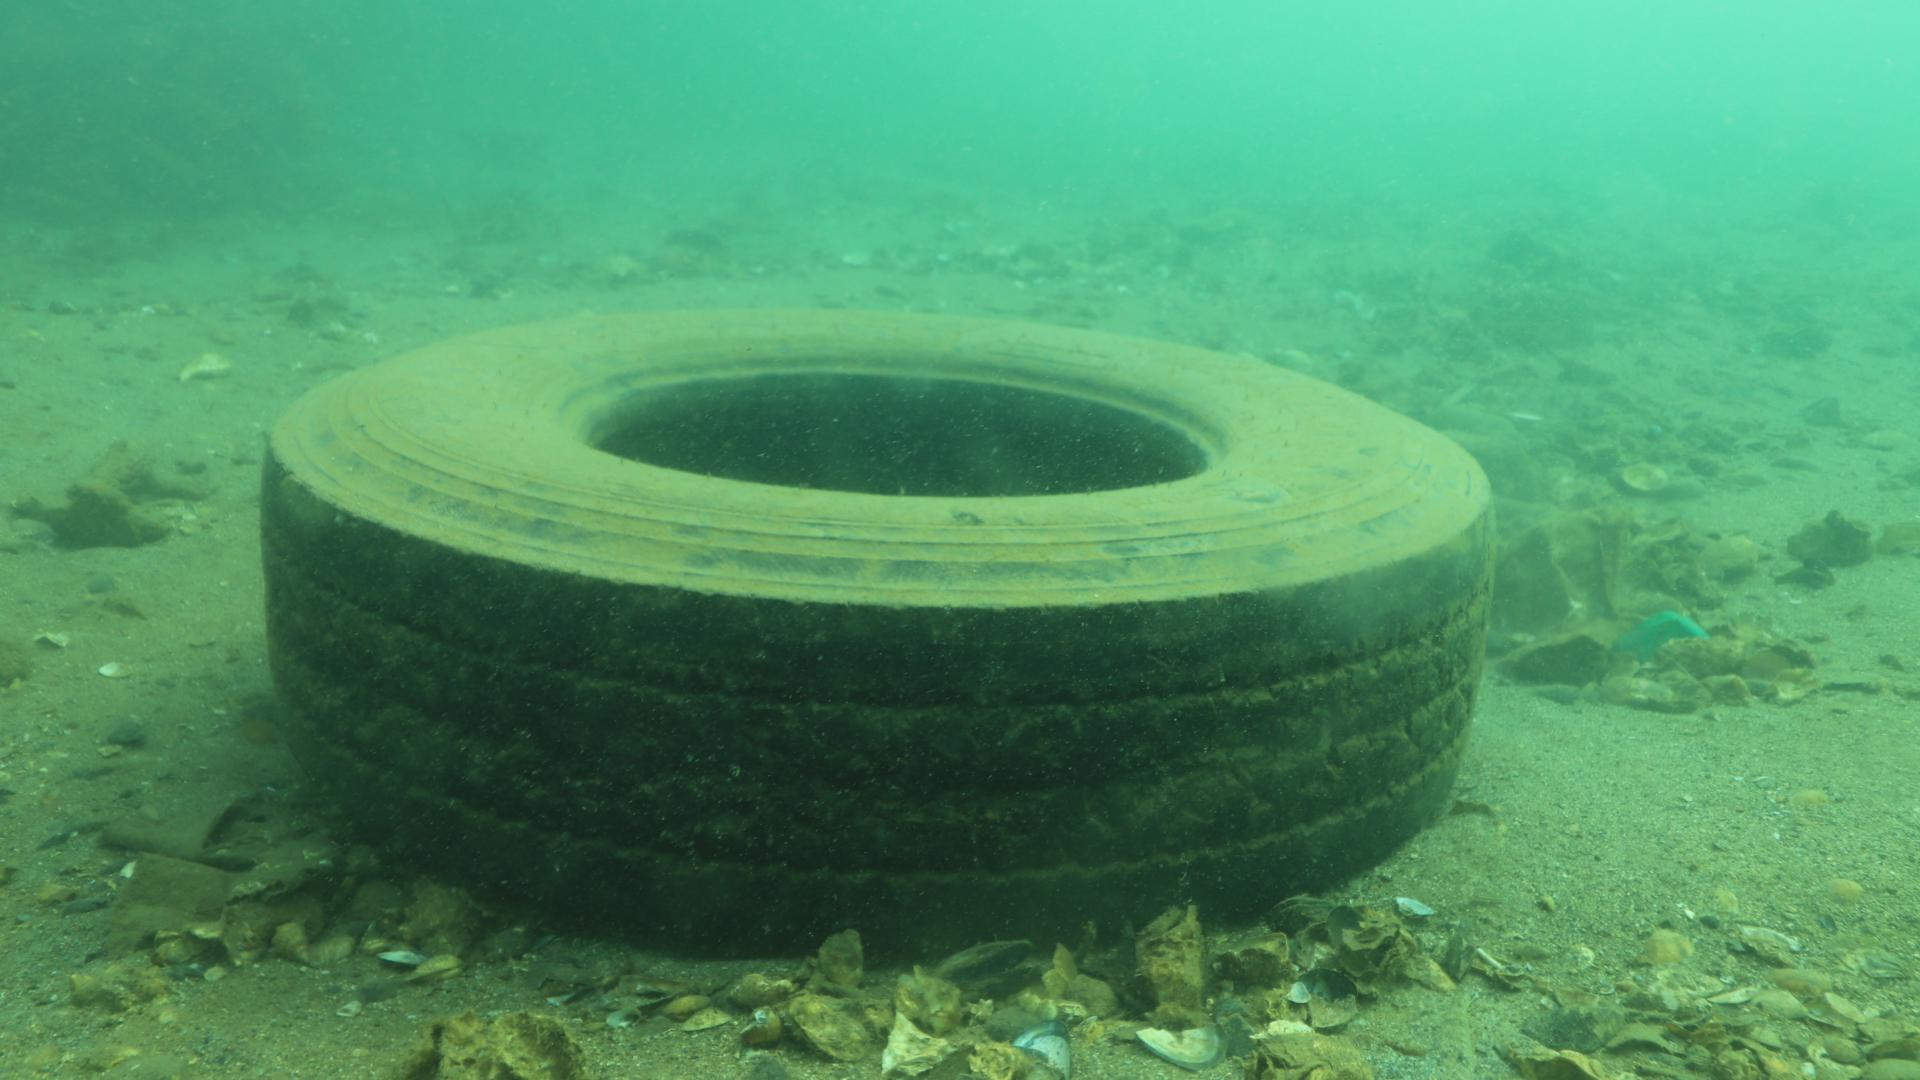tire: (258, 305, 1495, 957)
